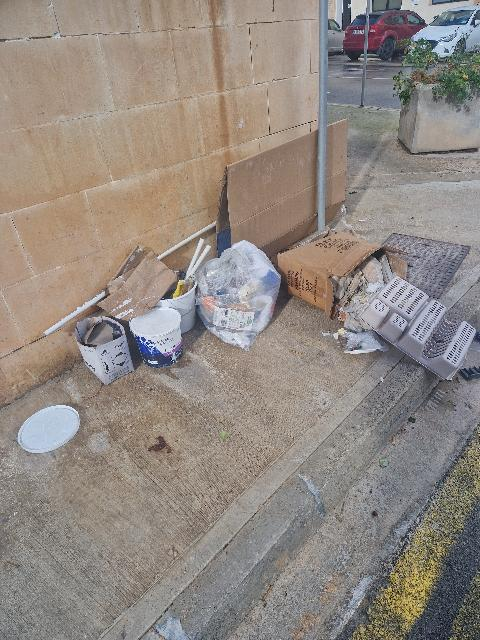Other: (216, 129, 318, 257), (360, 278, 476, 380), (275, 232, 408, 319), (98, 246, 178, 322), (157, 239, 210, 333), (75, 316, 134, 385), (339, 276, 384, 354), (129, 307, 183, 367), (17, 405, 80, 453), (326, 119, 348, 222)
Recyclable -Grey-: (196, 241, 280, 349)
